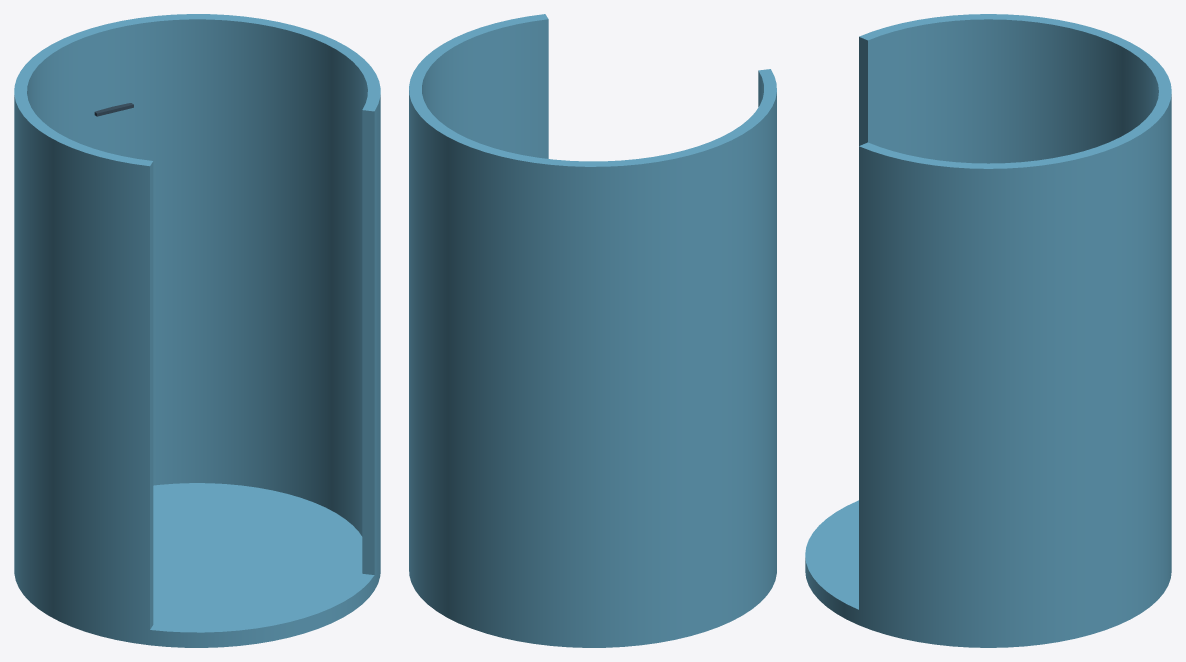
The model's file is calibrated-vessel.glb.
3 views of the same model, side by side, from view 1: azimuth 30°, elevation 25°; view 2: azimuth 150°, elevation 25°; view 3: azimuth 270°, elevation 25° (orthographic).
Parts seen in each view (by area): view 1: vessel-wall-cutaway, vessel-base; view 2: vessel-wall-cutaway, vessel-base; view 3: vessel-wall-cutaway, vessel-base.
Part boxes in pixels (x1,y1,x2,y2): vessel-wall-cutaway: (14, 14, 380, 629); vessel-base: (14, 483, 380, 647); vessel-wall-cutaway: (409, 14, 776, 632); vessel-base: (409, 556, 776, 647); vessel-wall-cutaway: (859, 14, 1171, 632); vessel-base: (805, 500, 1171, 647).
Size of the model in its own units: 0.086 by 0.124 by 0.086.
